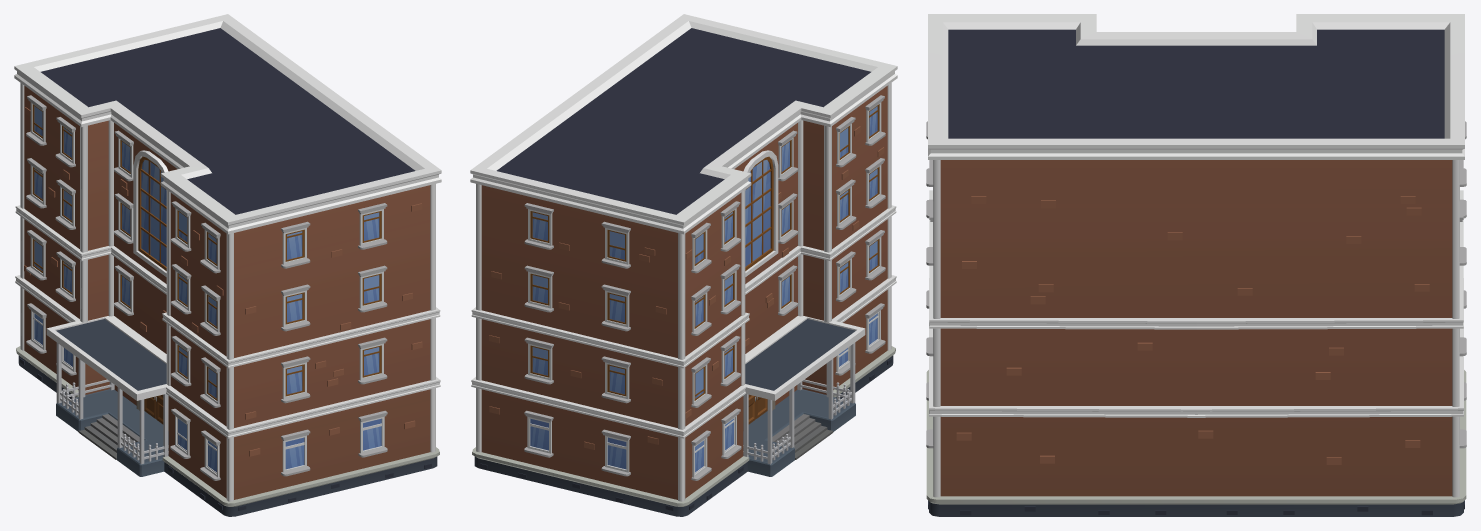
File: Building_5_3_I.fbx
3 renders of one model, left to right at view 1: azimuth 30°, elevation 25°; view 2: azimuth 150°, elevation 25°; view 3: azimuth 270°, elevation 25°, orthographic. The views are drawn at different scales.
Parts seen in each view (by area): view 1: Building_5_3_I; view 2: Building_5_3_I; view 3: Building_5_3_I.
Part boxes in pixels (x1,y1,x2,y2): Building_5_3_I: (14, 14, 441, 516); Building_5_3_I: (470, 14, 897, 516); Building_5_3_I: (926, 14, 1466, 516).
Bounding box in the file's own units: 1251 × 1450 × 1908.
